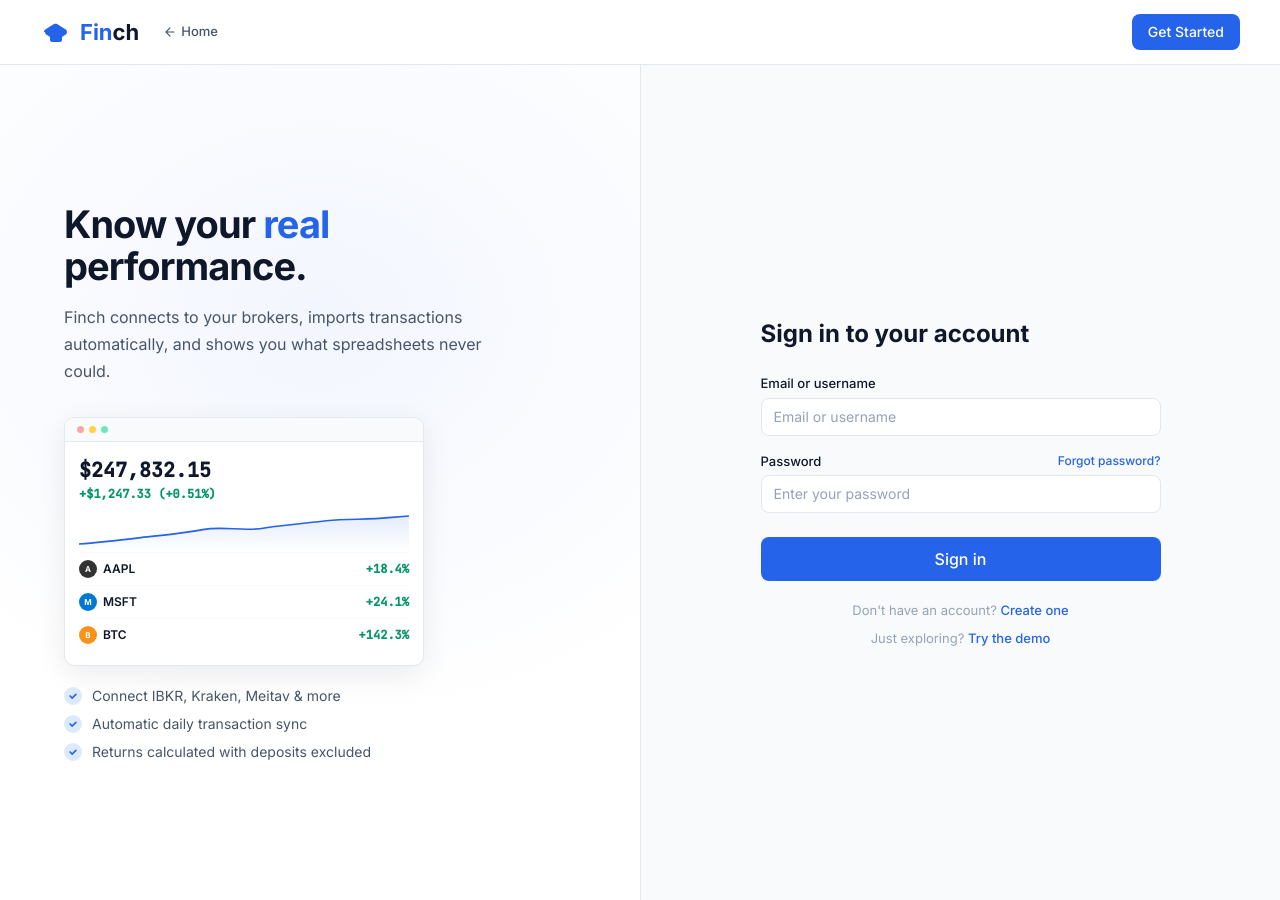
Scenario: Login › shows error message on login failure
Type "bad" into the field labelled "Email or username" at [960, 416], box x1=760 y1=398 x2=1160 y2=436
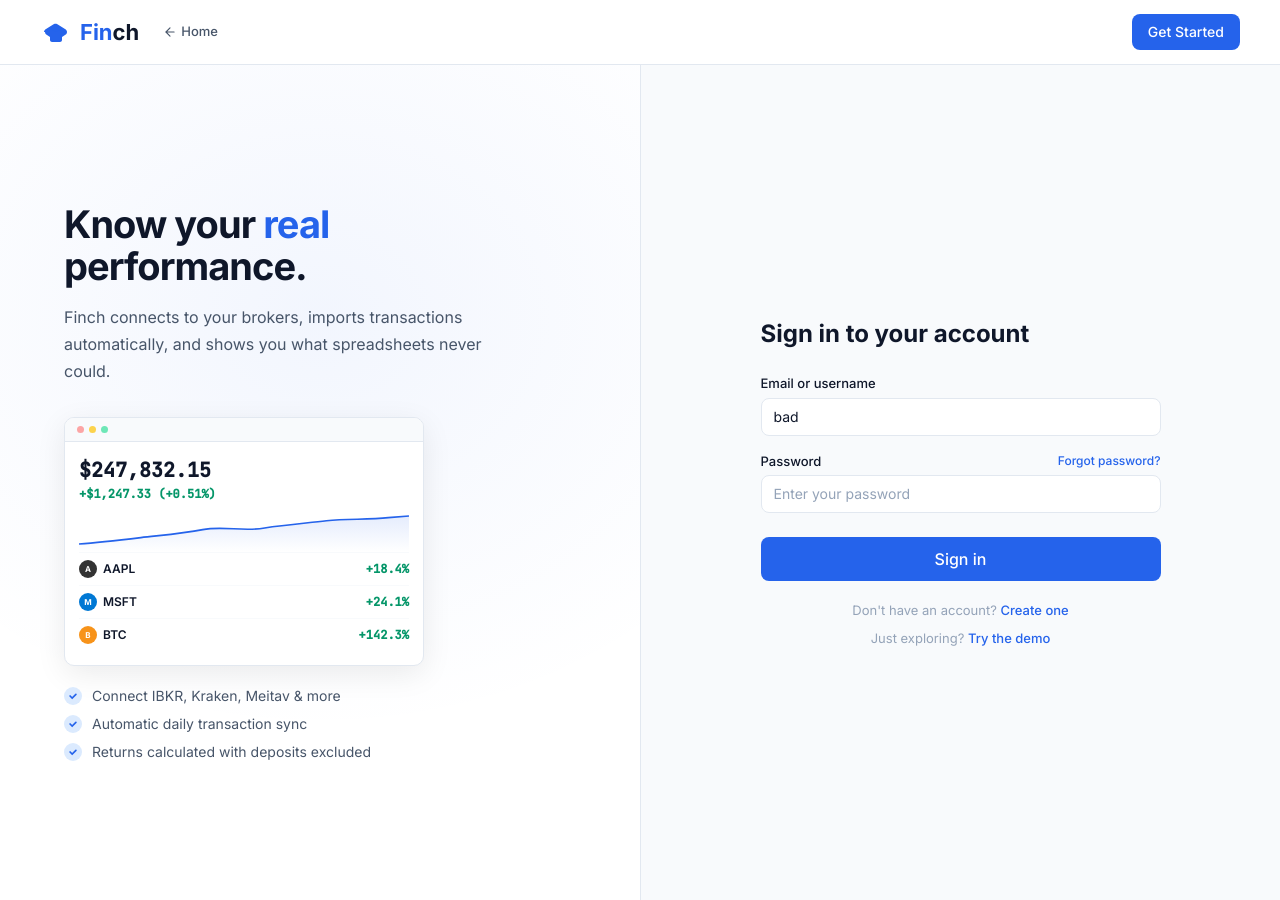
Type "bad" into the password field labelled "Password" at [960, 494], box x1=760 y1=475 x2=1160 y2=513
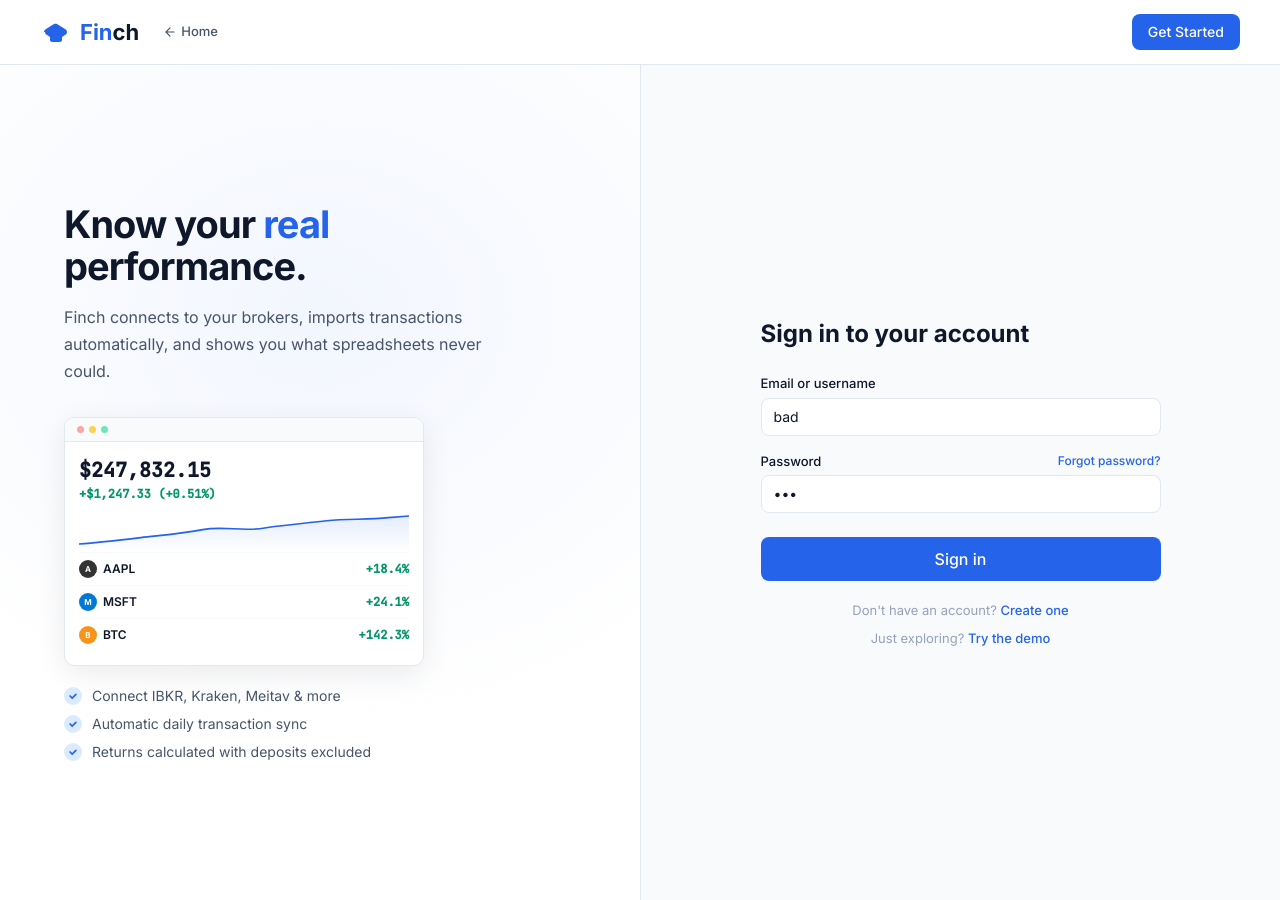
Click the button "Sign in" at [960, 559], box x1=760 y1=537 x2=1160 y2=581
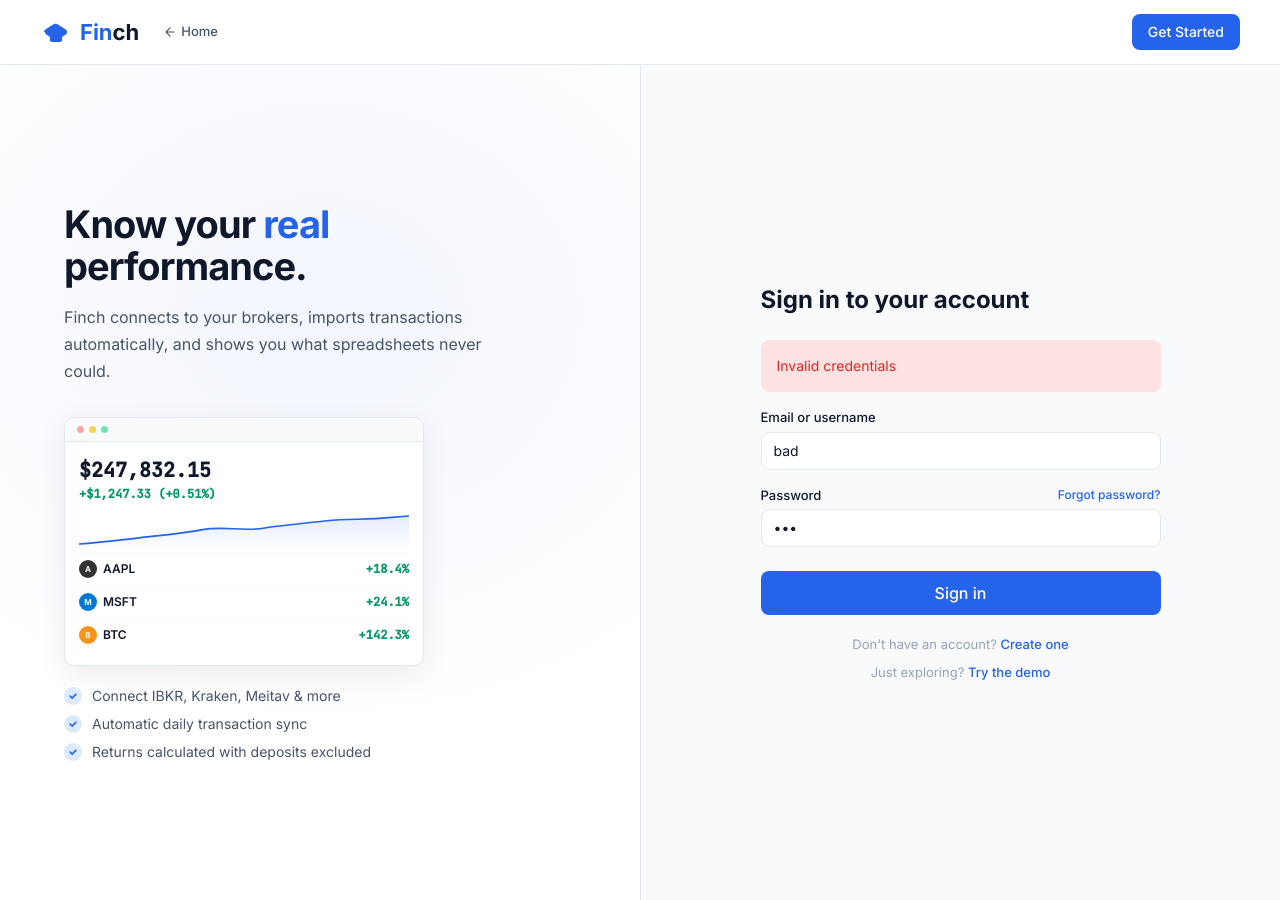
Expected: the text "Invalid credentials" is shown, x1=776 y1=357 x2=896 y2=374
